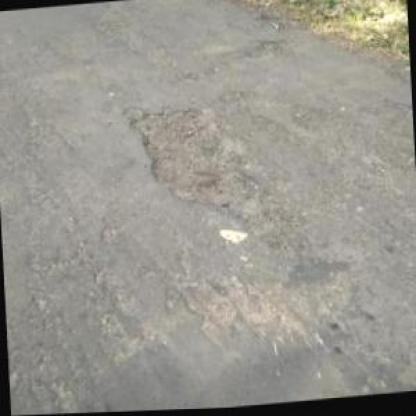pothole: (124, 95, 274, 228), (252, 37, 290, 61)
